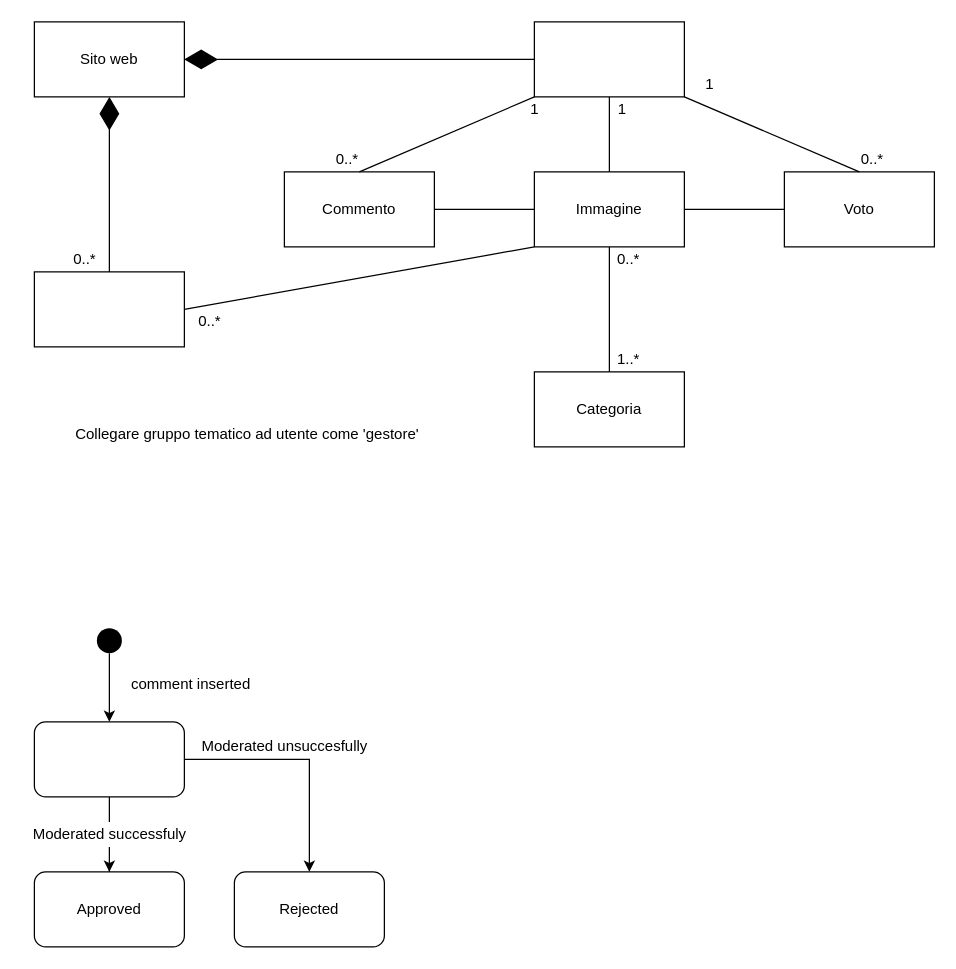
This 956x969 diagram has some shape labels left out. The centre of each missing label's shape, as x and y in pixels:
"Created" belongs at point (108, 759).
"Gruppo tematico" belongs at point (108, 309).
"Utente" belongs at point (608, 59).
